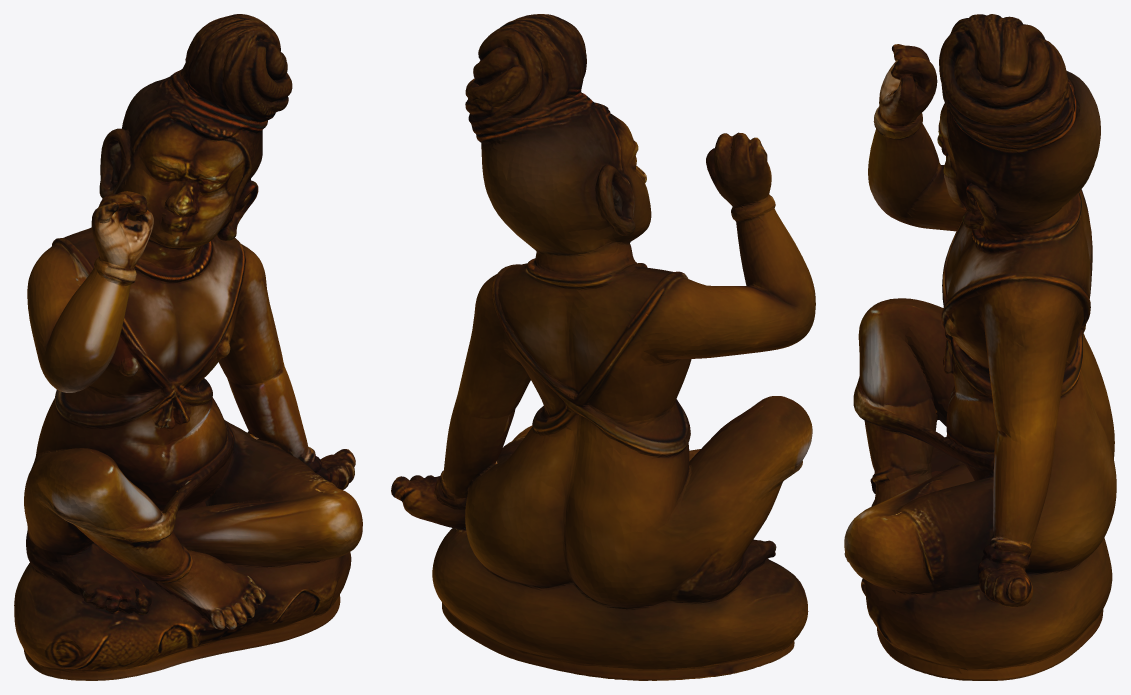
3 views of the same model, side by side, from view 1: azimuth 30°, elevation 25°; view 2: azimuth 150°, elevation 25°; view 3: azimuth 270°, elevation 25° (orthographic). The views are drawn at different scales.
Visible parts, largest first — view 1: textured_mesh; view 2: textured_mesh; view 3: textured_mesh.
Boxes of the visible parts, x1,y1,x2,y2 form: textured_mesh: [14, 14, 362, 680]; textured_mesh: [391, 14, 815, 680]; textured_mesh: [844, 14, 1116, 680].
Size of the model in its own units: 1.31 by 1.99 by 0.794.
1 material, 1 textured.
